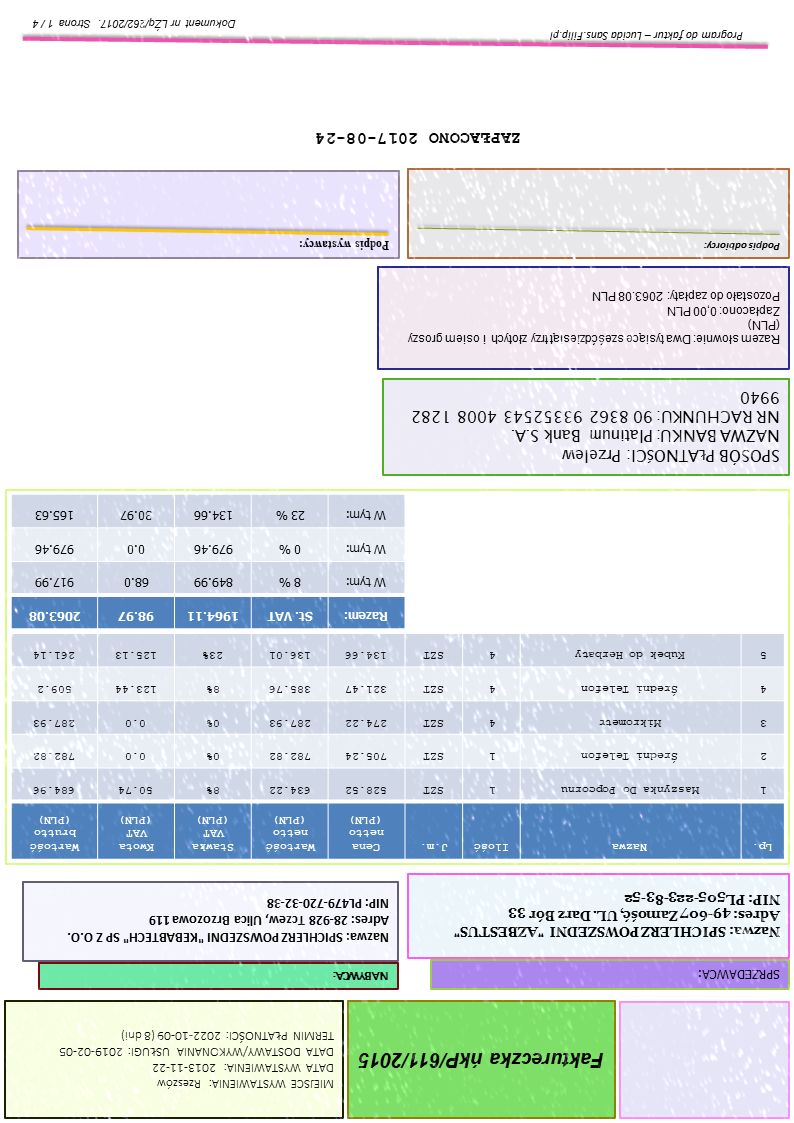Table: (9, 631, 787, 862), (8, 493, 409, 632)
TextBox: (405, 386, 784, 470), (400, 287, 784, 350), (52, 1025, 338, 1096), (452, 886, 784, 945), (61, 891, 393, 950), (355, 1045, 607, 1076), (27, 11, 242, 36), (312, 127, 524, 149), (545, 25, 749, 47), (296, 231, 394, 257), (697, 964, 786, 987), (703, 234, 788, 258), (331, 966, 393, 987)
